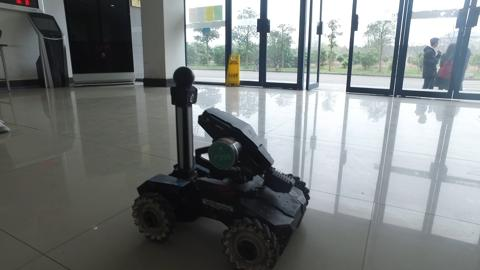chariot: (127, 62, 318, 269)
